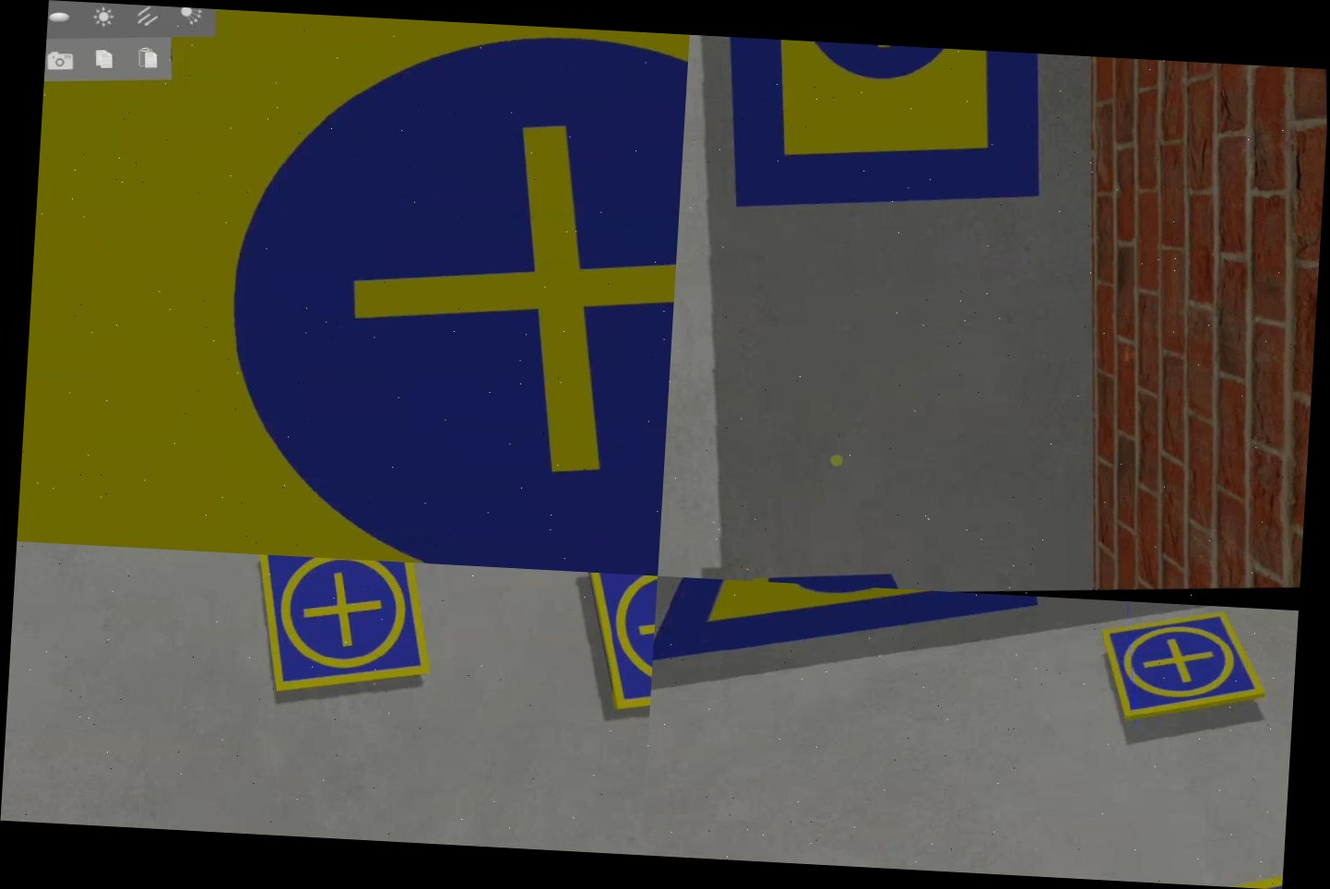large_base: (17, 0, 690, 576), (709, 36, 1051, 225), (653, 576, 1046, 682)
small_base: (248, 554, 440, 704), (1095, 602, 1273, 729), (577, 572, 658, 714)
